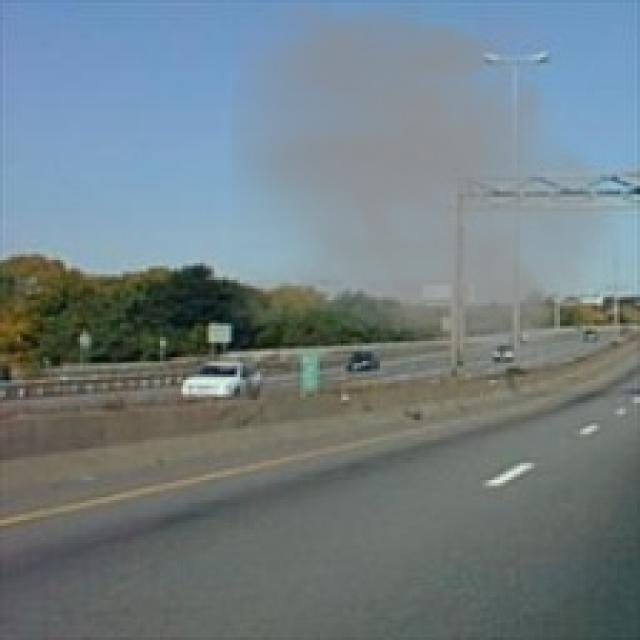smoke: (232, 0, 634, 369)
